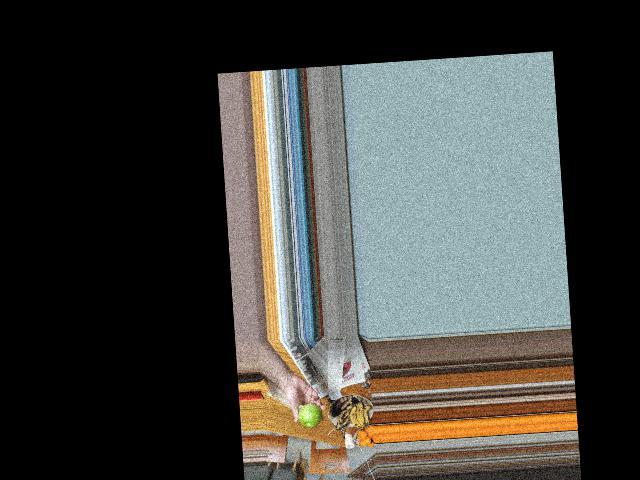apple: (298, 401, 320, 427)
